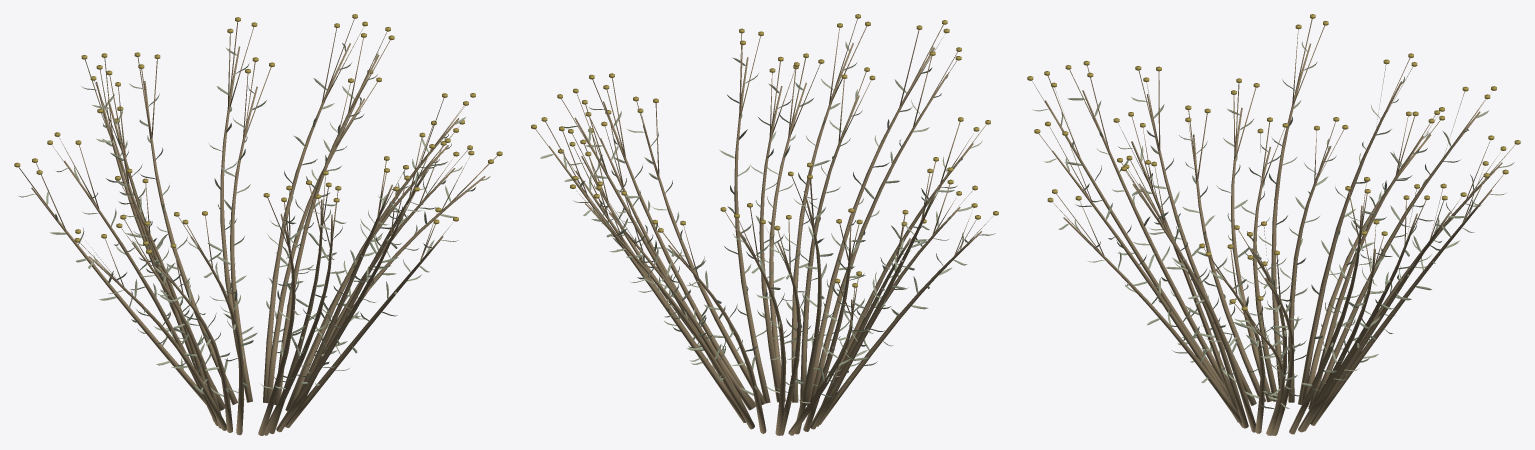
Rendered from Immortelle_1_Niveau0.fbx.
The picture shows the model from 3 angles, left to right: view 1: azimuth 30°, elevation 25°; view 2: azimuth 150°, elevation 25°; view 3: azimuth 270°, elevation 25°; orthographic projection.
Visible parts, largest first — view 1: Immortelle_1_Niveau0; view 2: Immortelle_1_Niveau0; view 3: Immortelle_1_Niveau0.
Boxes of the visible parts, x1,y1,x2,y2 form: Immortelle_1_Niveau0: (14, 14, 502, 435); Immortelle_1_Niveau0: (531, 14, 998, 435); Immortelle_1_Niveau0: (1027, 14, 1520, 435).
Bounding box in the file's own units: 58.9 × 41.98 × 58.08.
